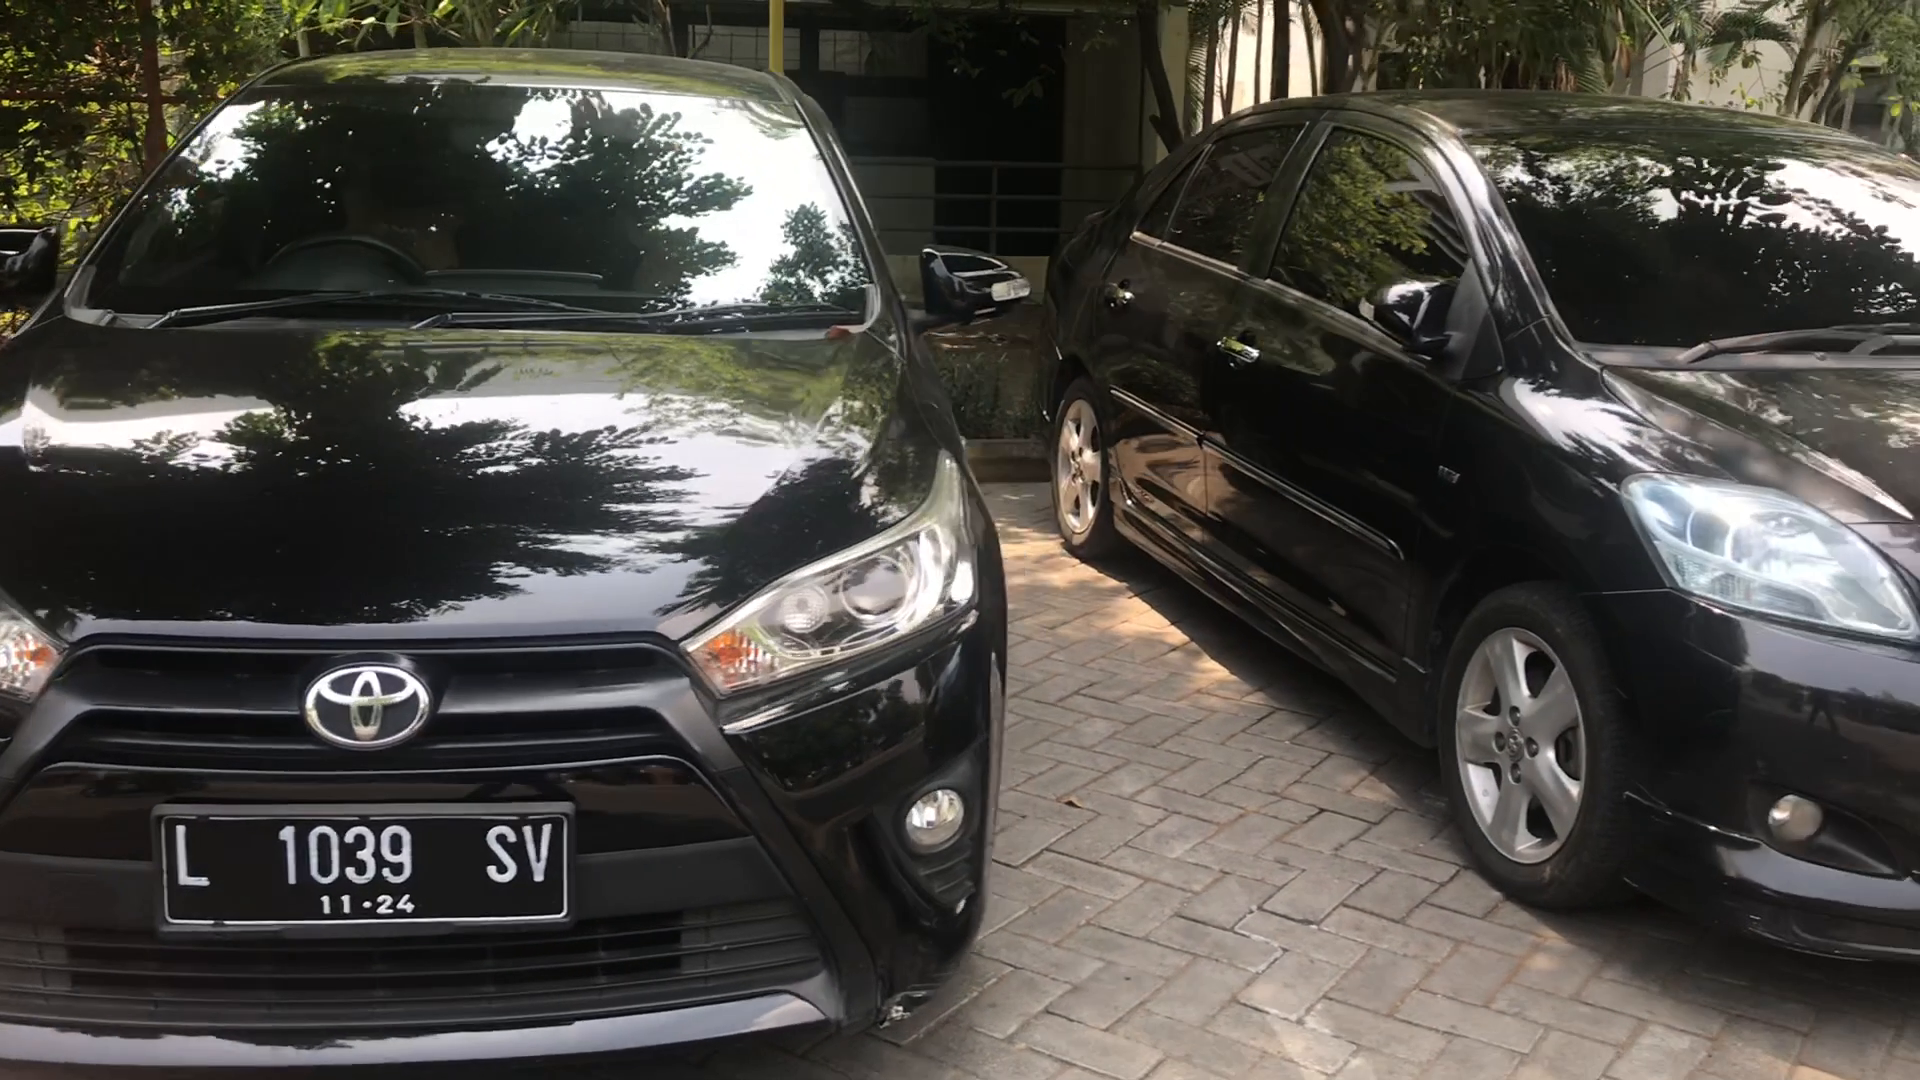plate: (162, 807, 567, 925)
